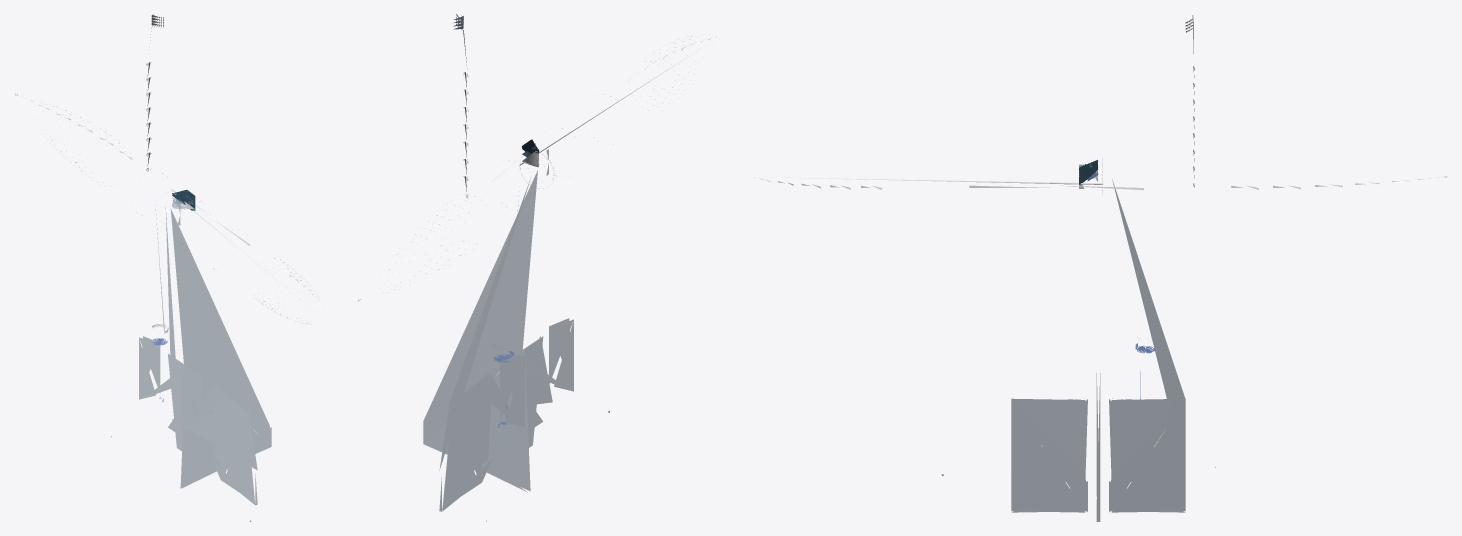
Rendered from crj-BAW-v4.gltf.
3 renders of one model, left to right at view 1: azimuth 30°, elevation 25°; view 2: azimuth 150°, elevation 25°; view 3: azimuth 270°, elevation 25°, orthographic. The views are drawn at different scales.
Parts seen in each view (by area): view 1: object 1; view 2: object 1; view 3: object 1.
Part boxes in pixels (x1,y1,x2,y2): object 1: (15,93,325,505); object 1: (357,36,716,511); object 1: (754,158,1447,521).
Size of the model in its own units: 7.92 by 27.78 by 36.
